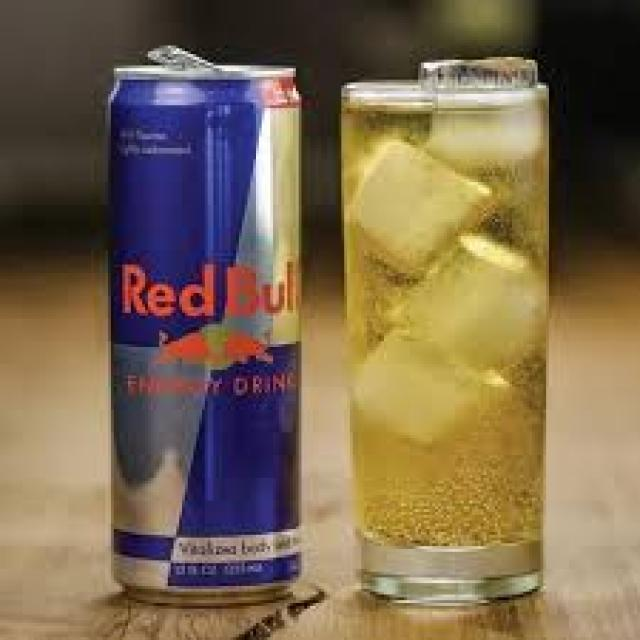red-bull: (108, 53, 308, 597)
